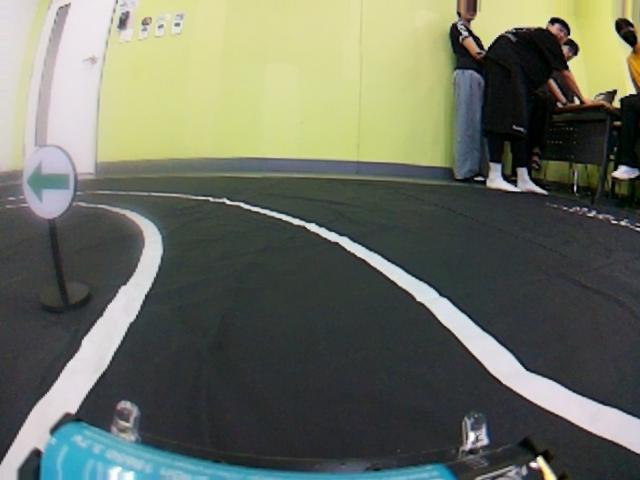sign_left: (18, 147, 86, 215)
straight: (40, 253, 640, 479)
